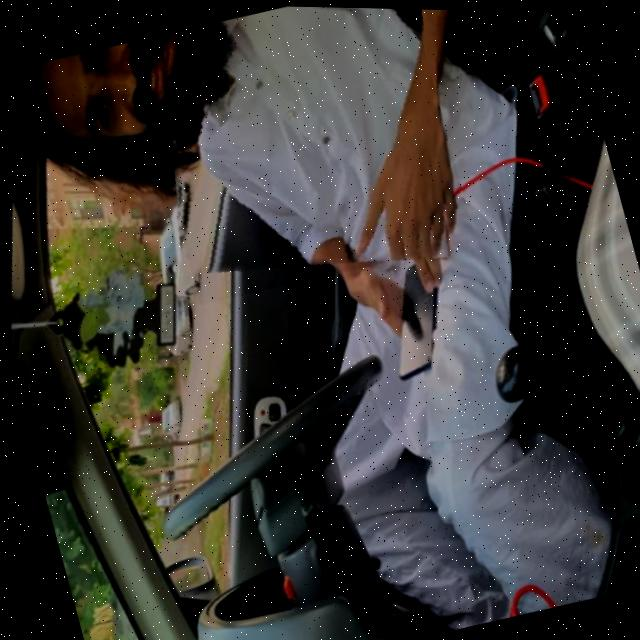no-seatbelt: (128, 2, 476, 307)
